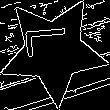L_E: (28, 33, 79, 69)
